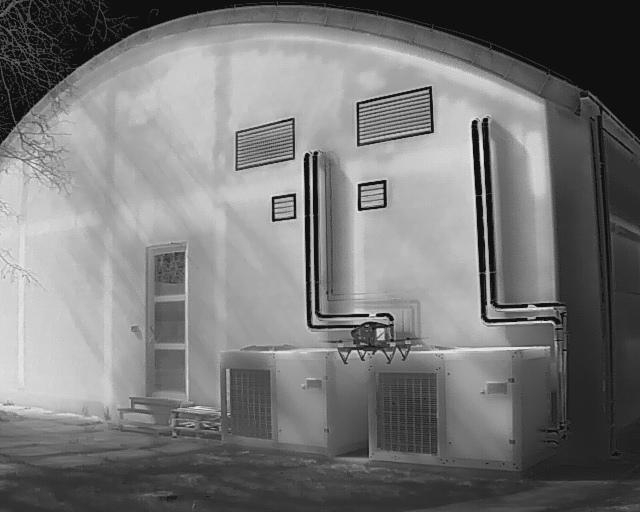drone: (300, 280, 422, 368)
